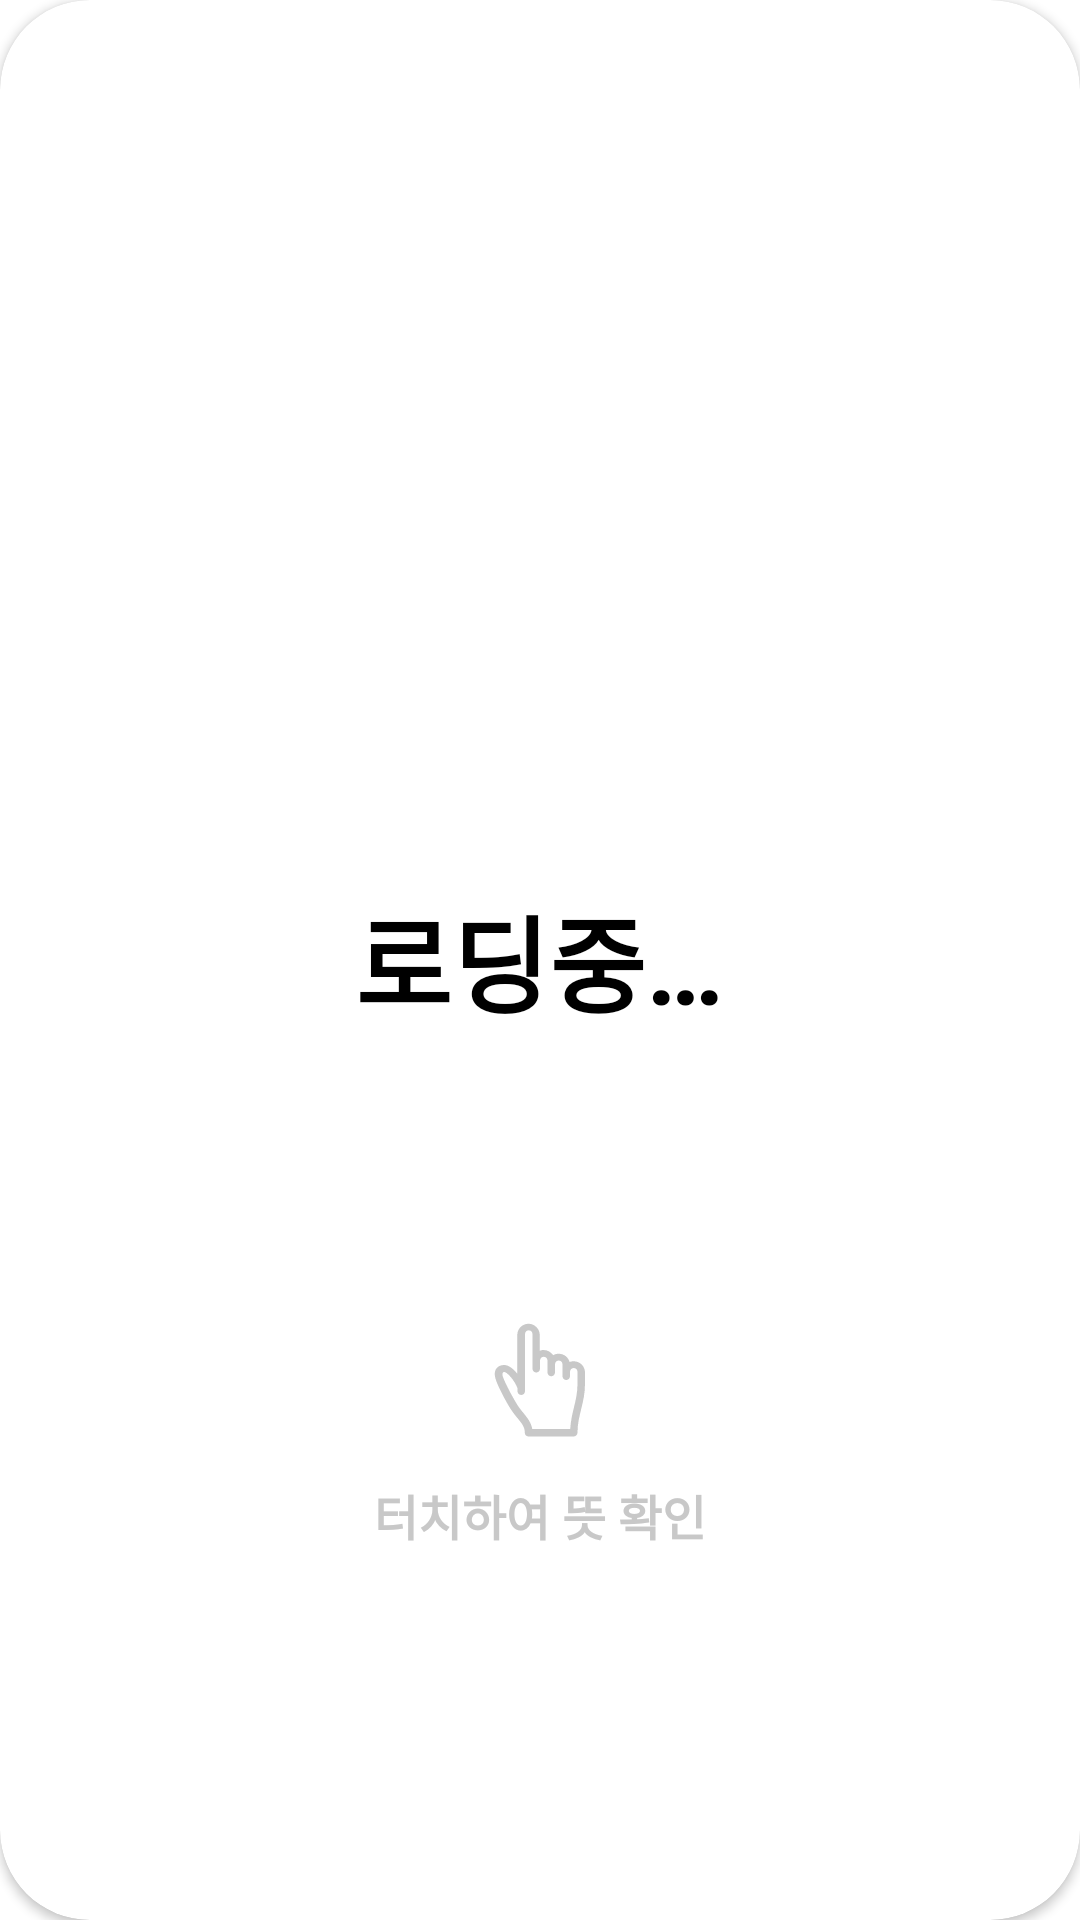

Named icons in this screenshot (1080px×1920px) and their bounding boxes, (x1, y1, x2, y2):
click finger touch: (495, 1324, 585, 1437)
